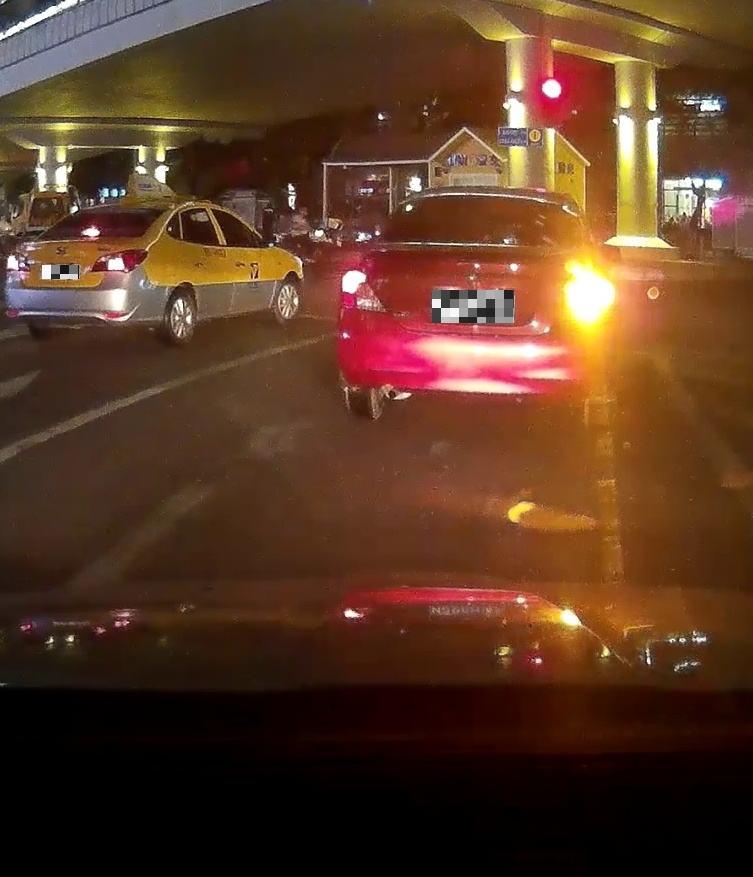L_light: (341, 270, 387, 313), (7, 250, 31, 272)
R_light: (555, 279, 610, 324), (90, 248, 149, 273)
T_light: (456, 194, 494, 204), (81, 229, 99, 237)
night-brake: (6, 201, 170, 345)
night-right: (336, 185, 618, 425)
plate_1: (42, 265, 79, 279)
plate_2: (432, 290, 514, 323)
